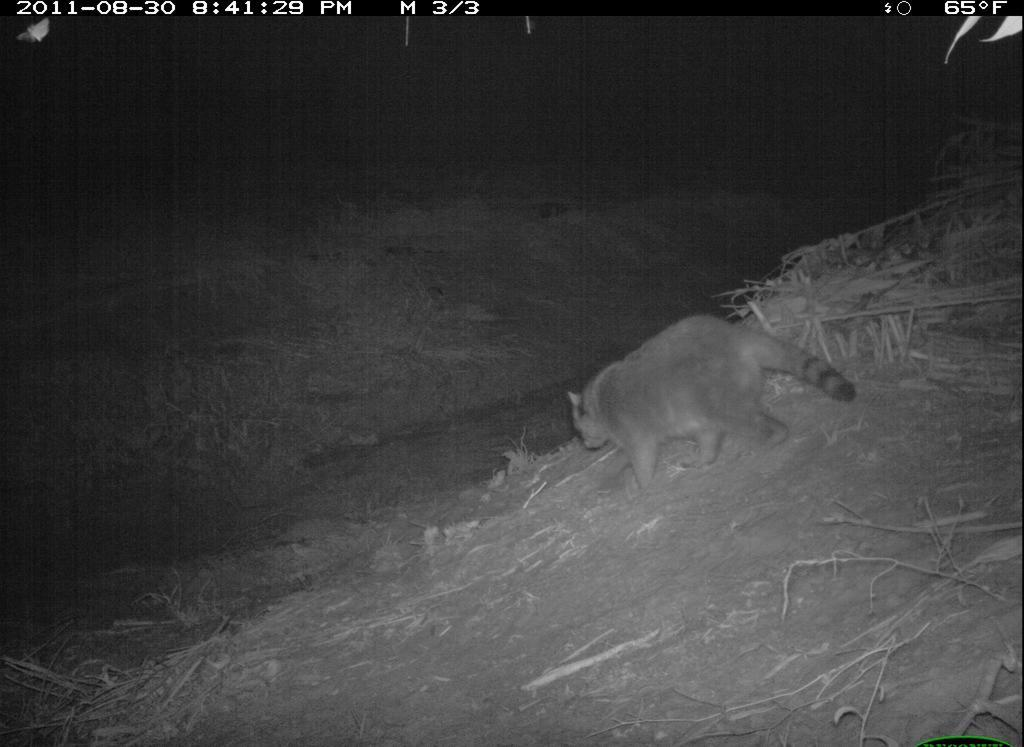raccoon: (556, 310, 861, 484)
